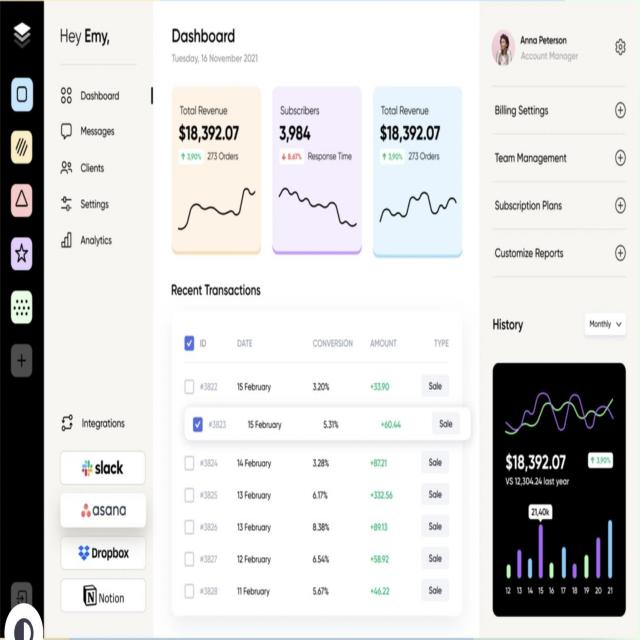button: (614, 146, 628, 168), (614, 193, 627, 216), (614, 35, 627, 58), (614, 99, 627, 121), (614, 242, 627, 264)
checkbox: (183, 377, 220, 398)
select: (584, 312, 628, 336)
